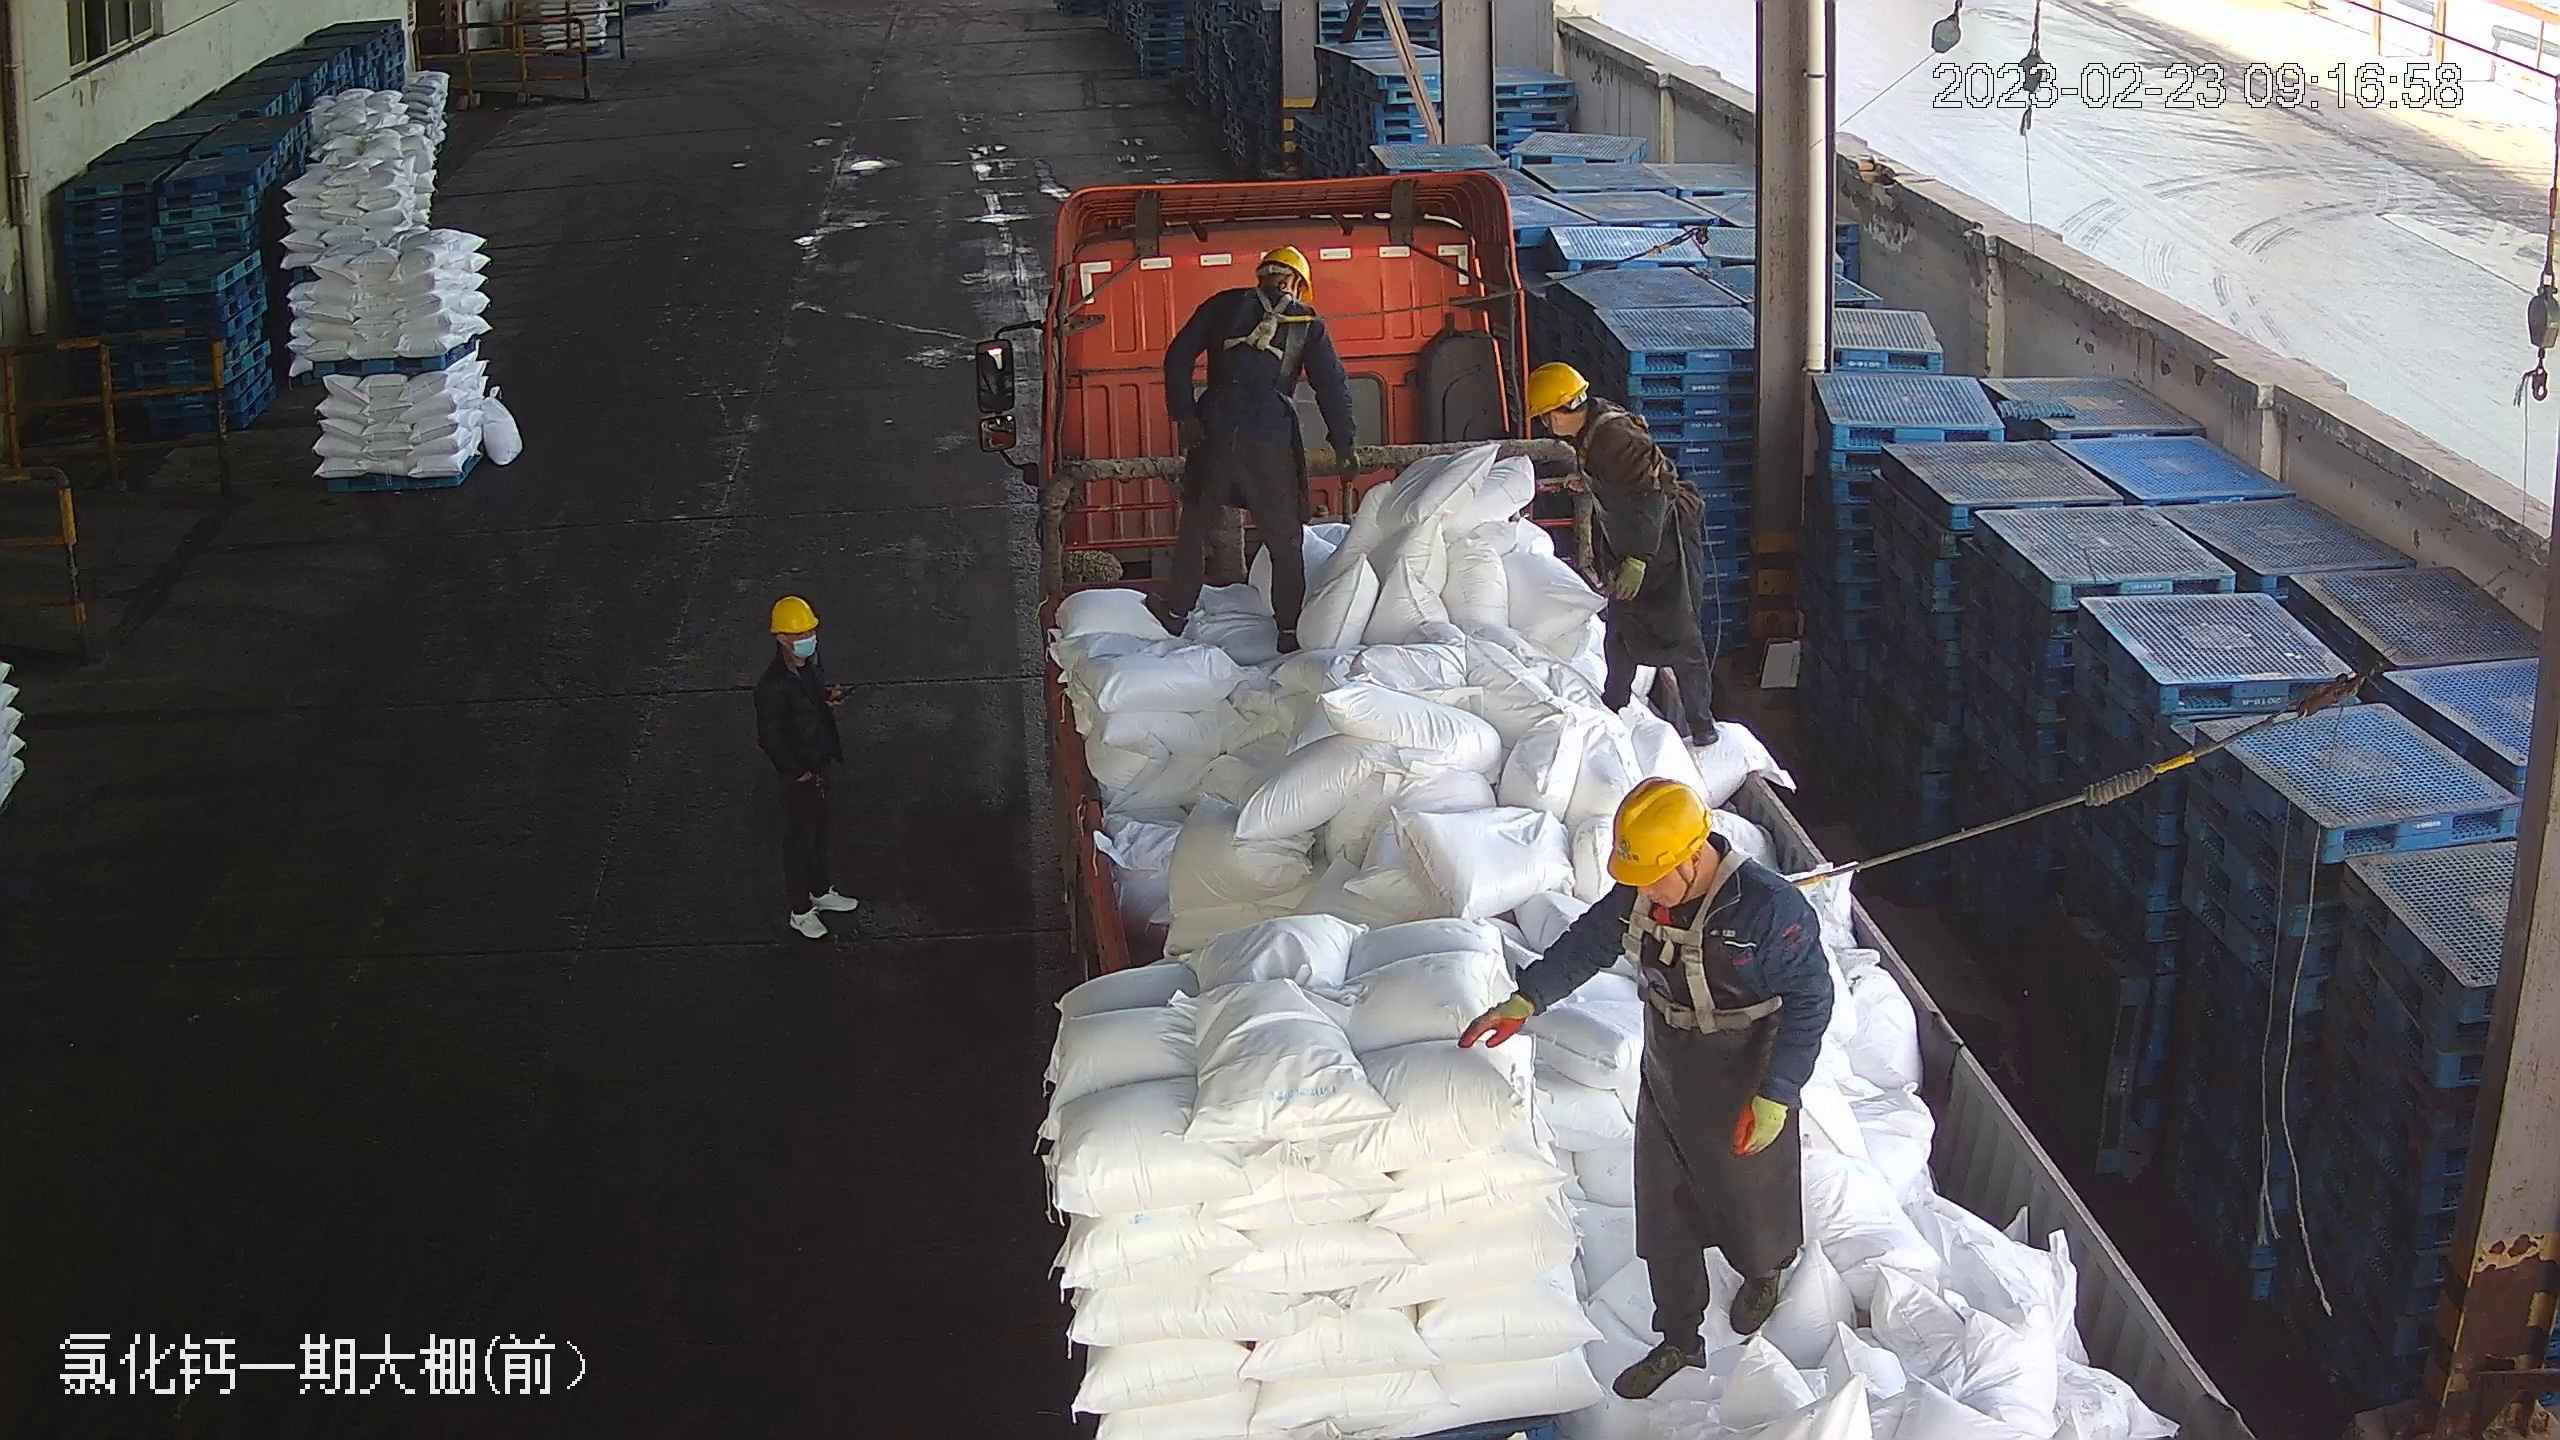belt: (1626, 890, 1765, 1038), (1223, 285, 1315, 366), (1572, 403, 1626, 507)
head: (1595, 778, 1796, 971), (1520, 363, 1649, 484), (1202, 245, 1330, 353), (753, 594, 834, 700)
helmet: (1603, 777, 1713, 884), (1519, 359, 1589, 416), (1257, 241, 1314, 290), (767, 593, 821, 634)
people: (1463, 772, 1832, 1404), (1515, 359, 1737, 758), (1152, 237, 1358, 660), (749, 590, 872, 946)
truck: (984, 158, 2253, 1440)
